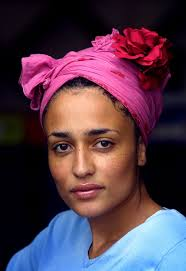middle_eastern_Female: (46, 91, 144, 216)
